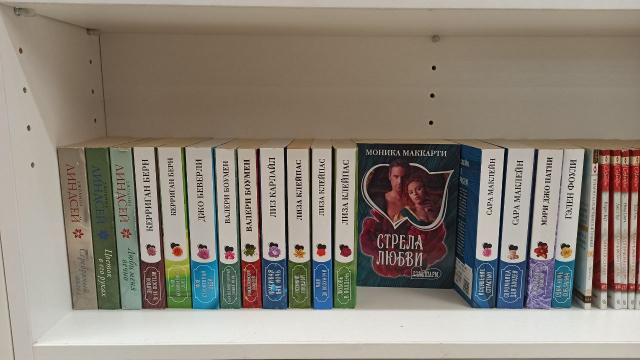book-s-spine: (58, 148, 97, 309), (498, 148, 535, 309), (526, 150, 563, 309), (86, 148, 120, 310), (158, 148, 192, 308), (186, 148, 219, 309), (134, 147, 166, 309), (473, 149, 505, 309), (552, 149, 584, 308), (110, 148, 141, 309), (260, 148, 287, 309), (215, 149, 241, 309), (287, 149, 311, 308), (238, 149, 261, 309), (312, 148, 333, 309), (335, 149, 356, 309), (585, 149, 599, 309), (628, 149, 640, 309), (601, 150, 609, 309), (614, 150, 621, 309), (622, 150, 628, 309)
